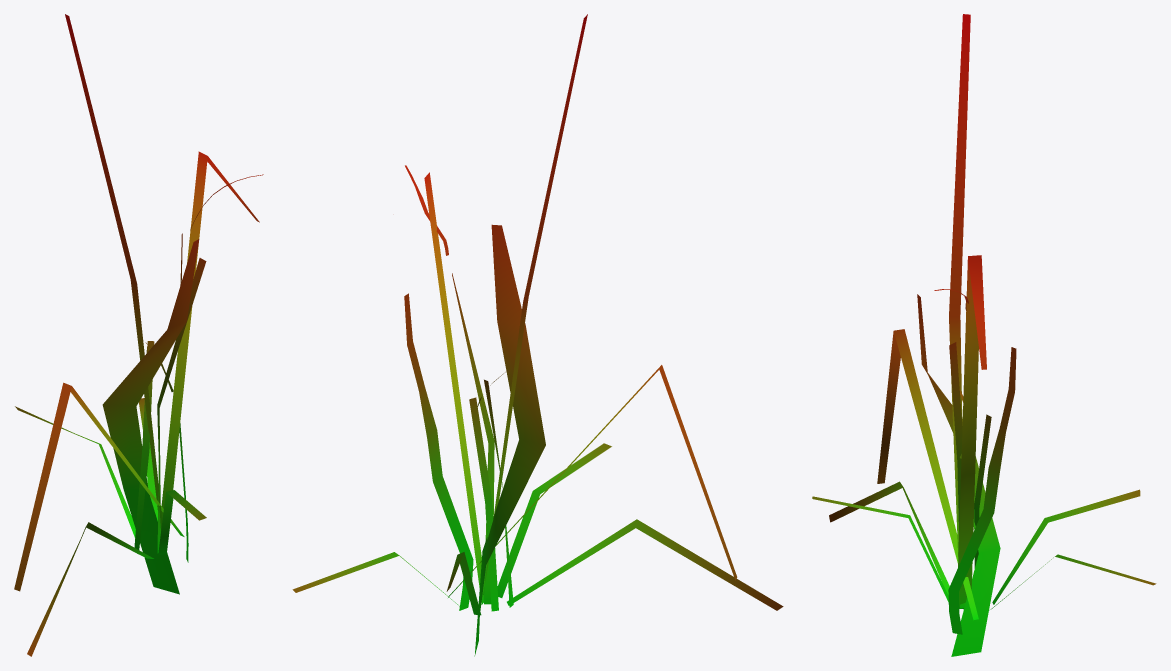
Rendered from Wheat Grass_LOD2_Var5_tdcrdbur.fbx.
3 views of the same model, side by side, from view 1: azimuth 30°, elevation 25°; view 2: azimuth 150°, elevation 25°; view 3: azimuth 270°, elevation 25° (orthographic). The views are drawn at different scales.
Parts seen in each view (by area): view 1: _850e_Var5_LOD2; view 2: _850e_Var5_LOD2; view 3: _850e_Var5_LOD2.
Boxes of the visible parts, box(x1,y1,x2,y2) form: _850e_Var5_LOD2: box(14, 14, 263, 656); _850e_Var5_LOD2: box(292, 14, 783, 656); _850e_Var5_LOD2: box(812, 14, 1156, 656).
Size of the model in its own units: 36.06 by 66.62 by 35.08.
